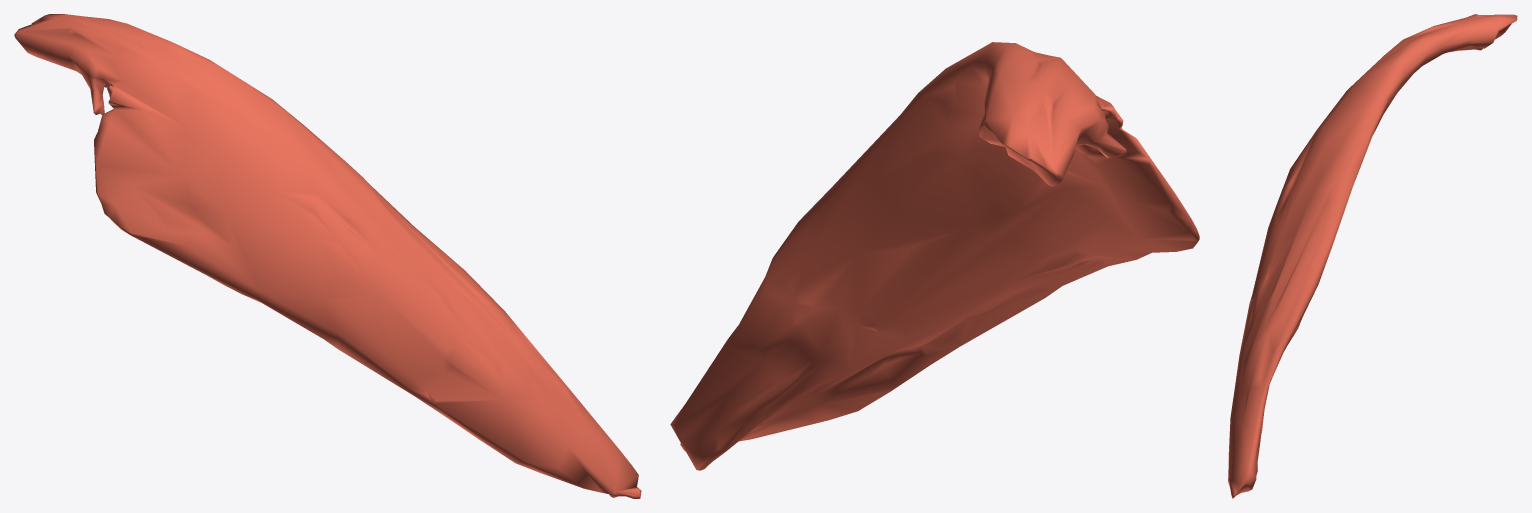
Rendered from abductor-pollicis-longus.glb.
3 renders of one model, left to right at view 1: azimuth 30°, elevation 25°; view 2: azimuth 150°, elevation 25°; view 3: azimuth 270°, elevation 25°, orthographic. The views are drawn at different scales.
Parts seen in each view (by area): view 1: Abductor pollicis brevis.l; view 2: Abductor pollicis brevis.l; view 3: Abductor pollicis brevis.l.
Part boxes in pixels (x1,y1,x2,y2): Abductor pollicis brevis.l: [14, 14, 641, 498]; Abductor pollicis brevis.l: [670, 42, 1199, 470]; Abductor pollicis brevis.l: [1228, 14, 1517, 498].
Size of the model in its own units: 0.0407 by 0.0396 by 0.0307.
